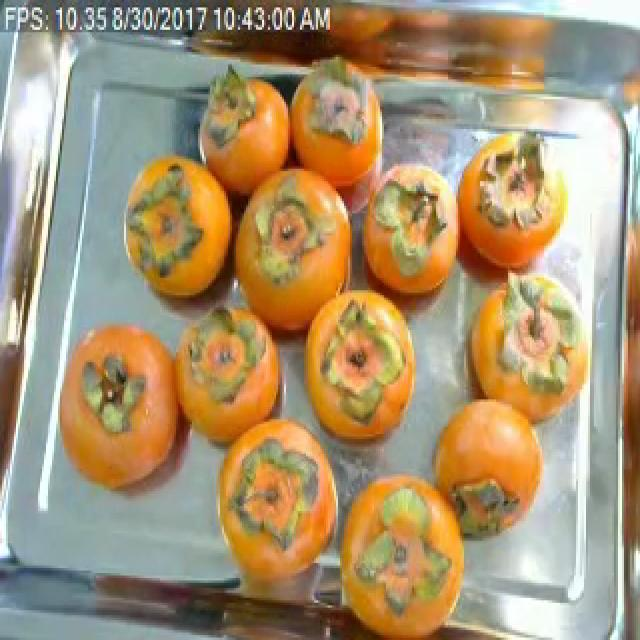Fruit: (446, 111, 582, 292), (114, 136, 236, 332)
